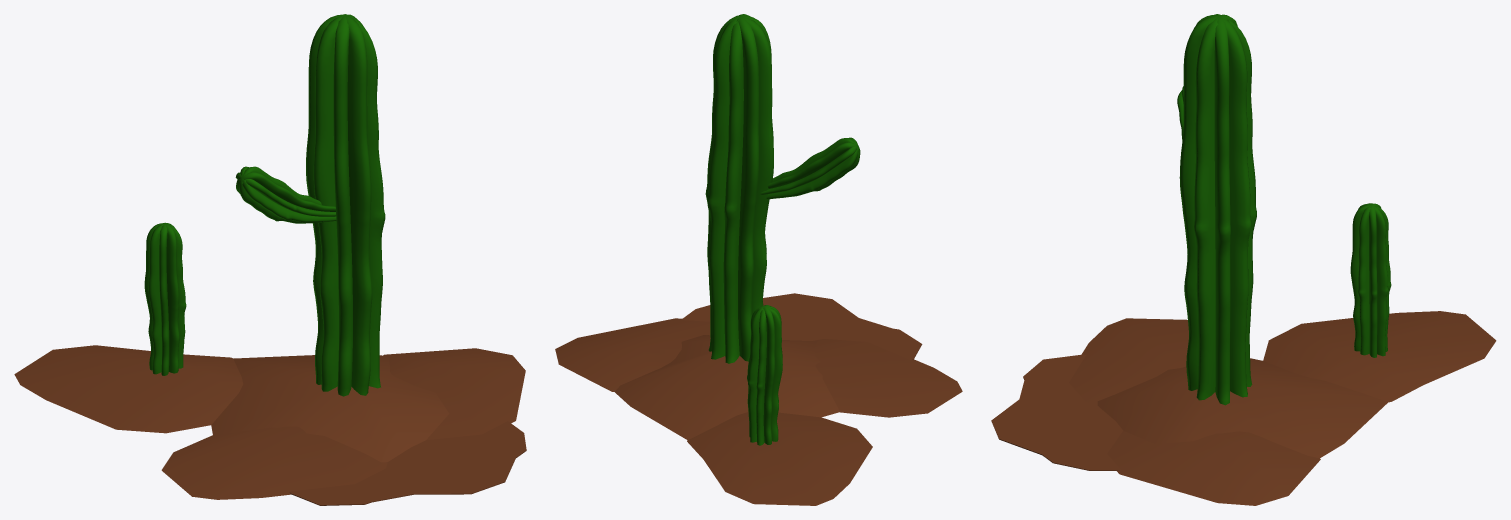
The model's file is Cactus_469.gltf.
3 renders of one model, left to right at view 1: azimuth 30°, elevation 25°; view 2: azimuth 150°, elevation 25°; view 3: azimuth 270°, elevation 25°, orthographic. The views are drawn at different scales.
Visible parts, largest first — view 1: node-0; view 2: node-0; view 3: node-0.
Boxes of the visible parts, left/top/right/bottom form: node-0: left=14, top=14, right=526, bottom=505; node-0: left=555, top=14, right=962, bottom=505; node-0: left=991, top=14, right=1496, bottom=505.
Bounding box in the file's own units: 122 × 116 × 134.
